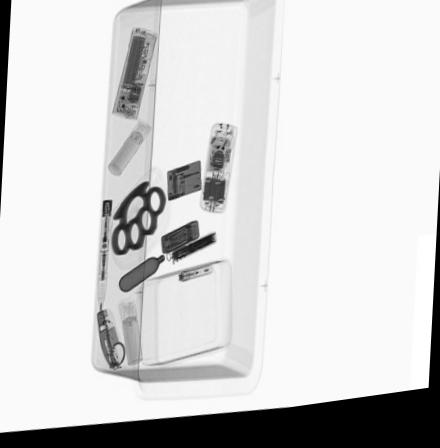Knife: (168, 238, 216, 270)
